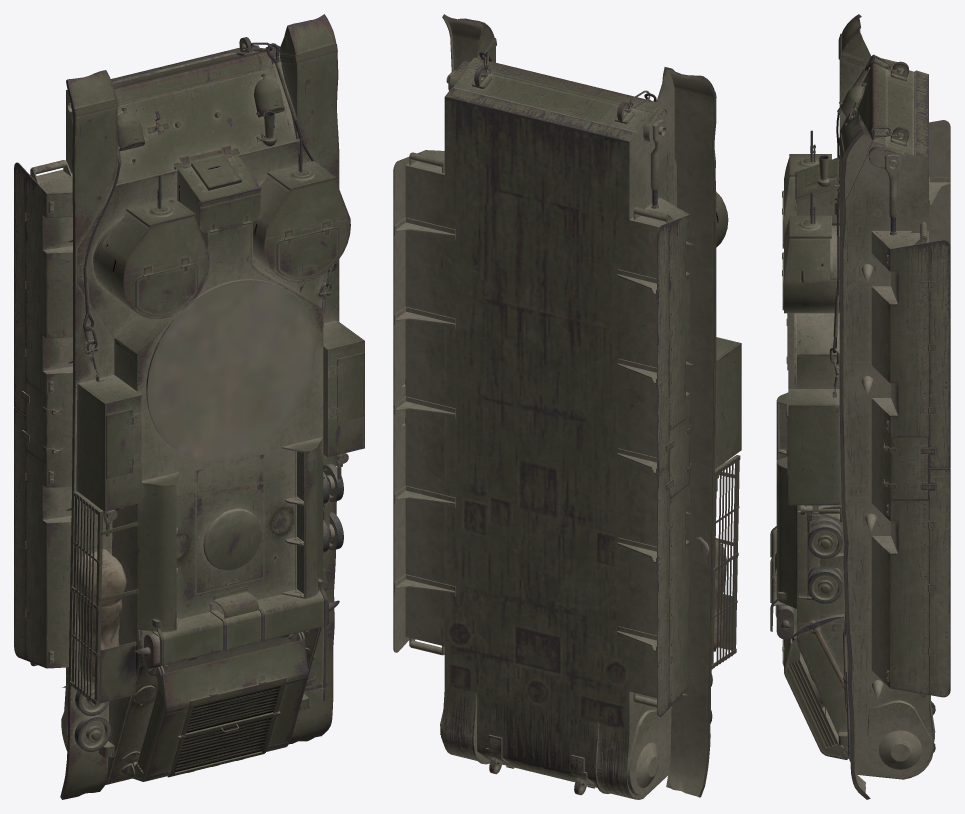
File: Hull.glb
3 renders of one model, left to right at view 1: azimuth 30°, elevation 25°; view 2: azimuth 150°, elevation 25°; view 3: azimuth 270°, elevation 25°, orthographic. The views are drawn at different scales.
Parts seen in each view (by area): view 1: set_0_group_0; view 2: set_0_group_0; view 3: set_0_group_0.
Boxes of the visible parts, x1,y1,x2,y2 form: set_0_group_0: (14, 14, 364, 799); set_0_group_0: (393, 14, 741, 799); set_0_group_0: (770, 14, 950, 799).
Bounding box in the file's own units: 2.85 × 7.36 × 1.79.
1 material, 1 textured.
